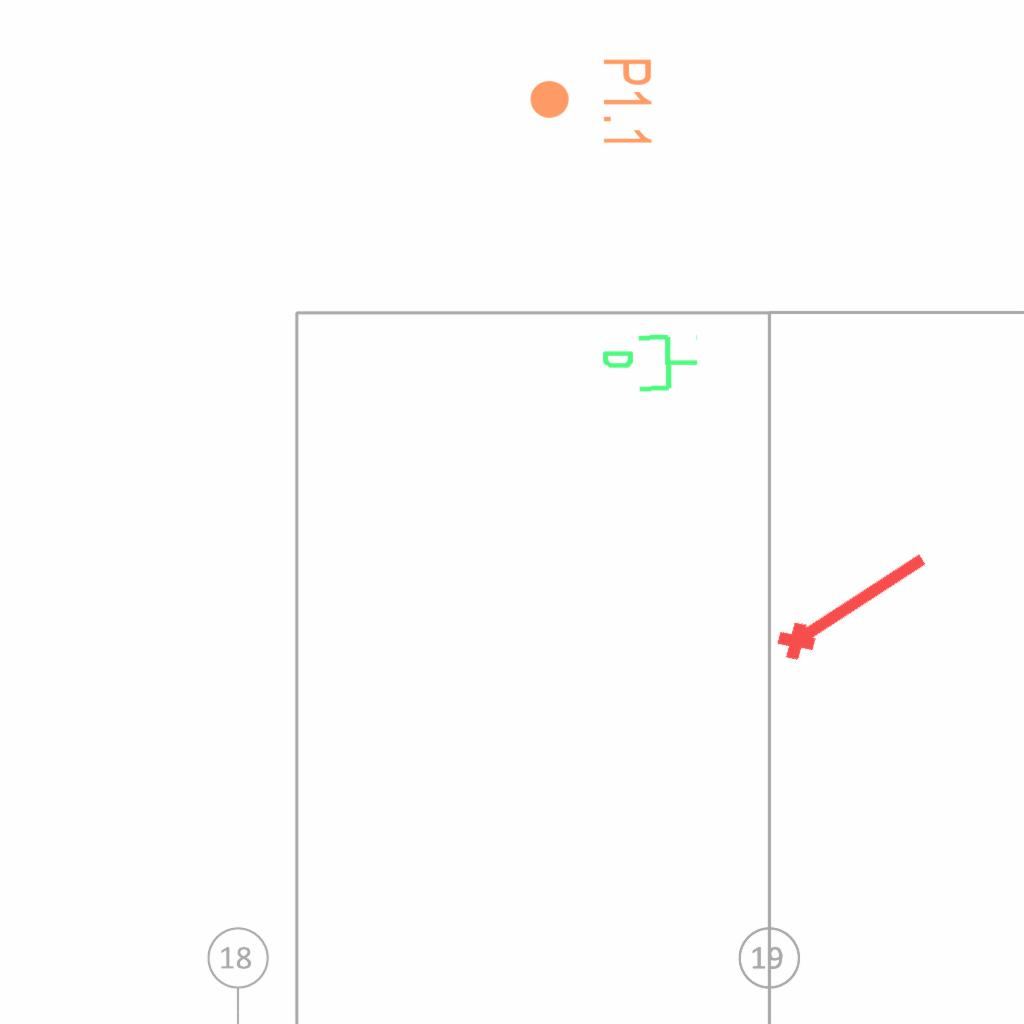ASR_Ansaugoeffnung: (765, 534, 939, 670)
Datenanschluss_einfach: (599, 329, 702, 401)
Downlight_LED_Einbauleuchten_Flur: (527, 56, 655, 149)
